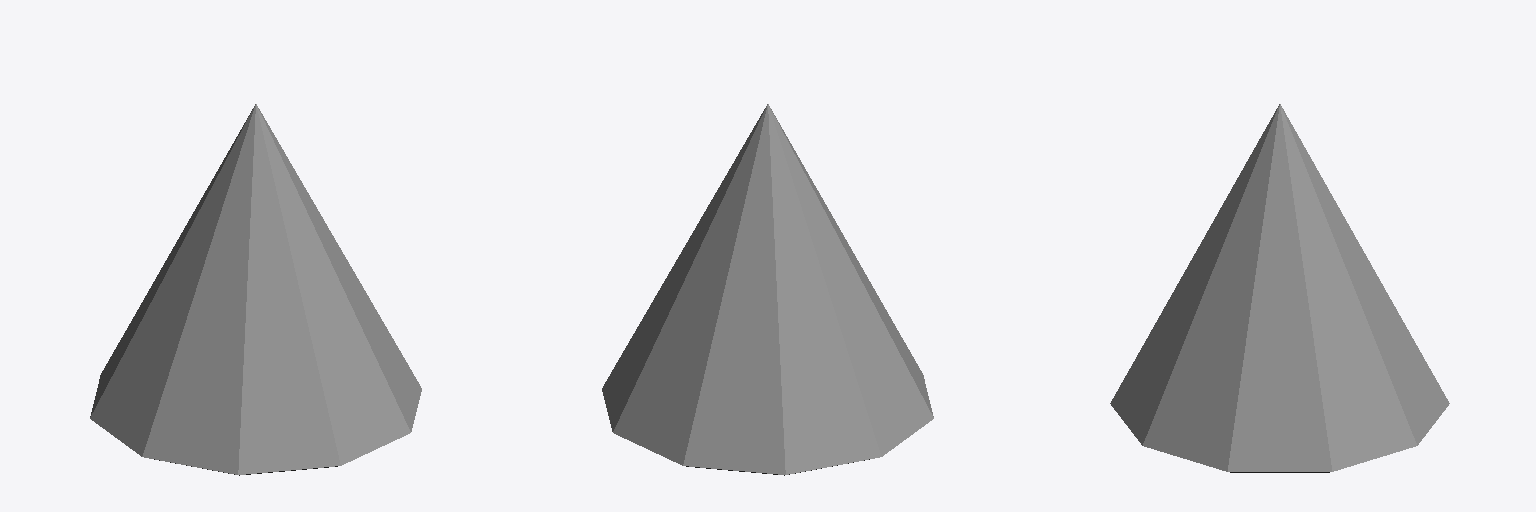
Rendered from strecha.obj.
The picture shows the model from 3 angles: view 1: azimuth 30°, elevation 25°; view 2: azimuth 150°, elevation 25°; view 3: azimuth 270°, elevation 25°; orthographic projection.
Parts seen in each view (by area): view 1: Cone; view 2: Cone; view 3: Cone.
Boxes of the visible parts, <box> form: Cone: <box>90,104,421,475</box>; Cone: <box>602,104,933,475</box>; Cone: <box>1110,104,1449,472</box>.
Size of the model in its own units: 78.89 by 82.25 by 82.95.